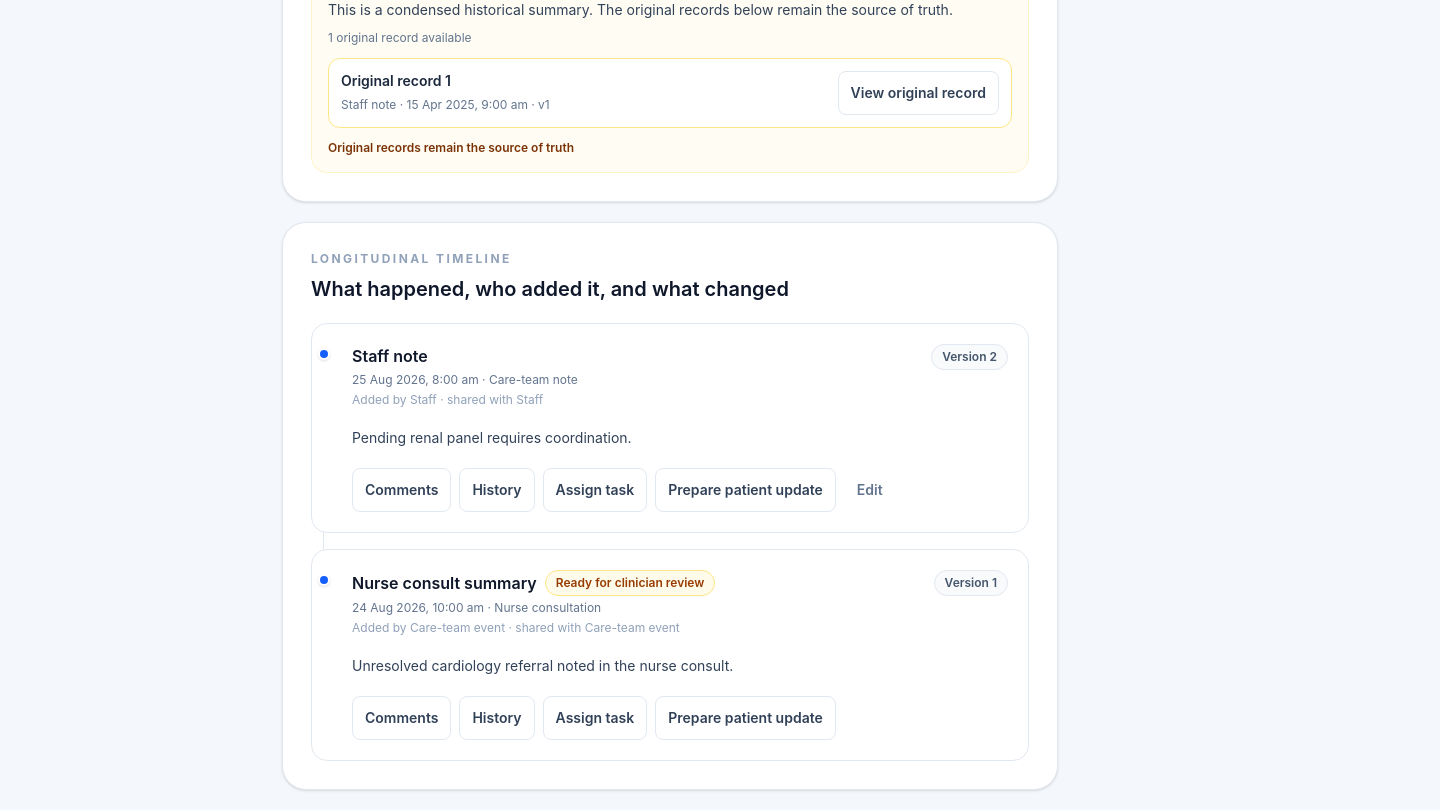
Gate B shared care note › supports keyboard mention autocomplete with stable collaborator choices
(page scrolled)
Click the button "Comments" below "Added by Staff · shared with Staff" at (402,490), box 352,468 -> 451,512
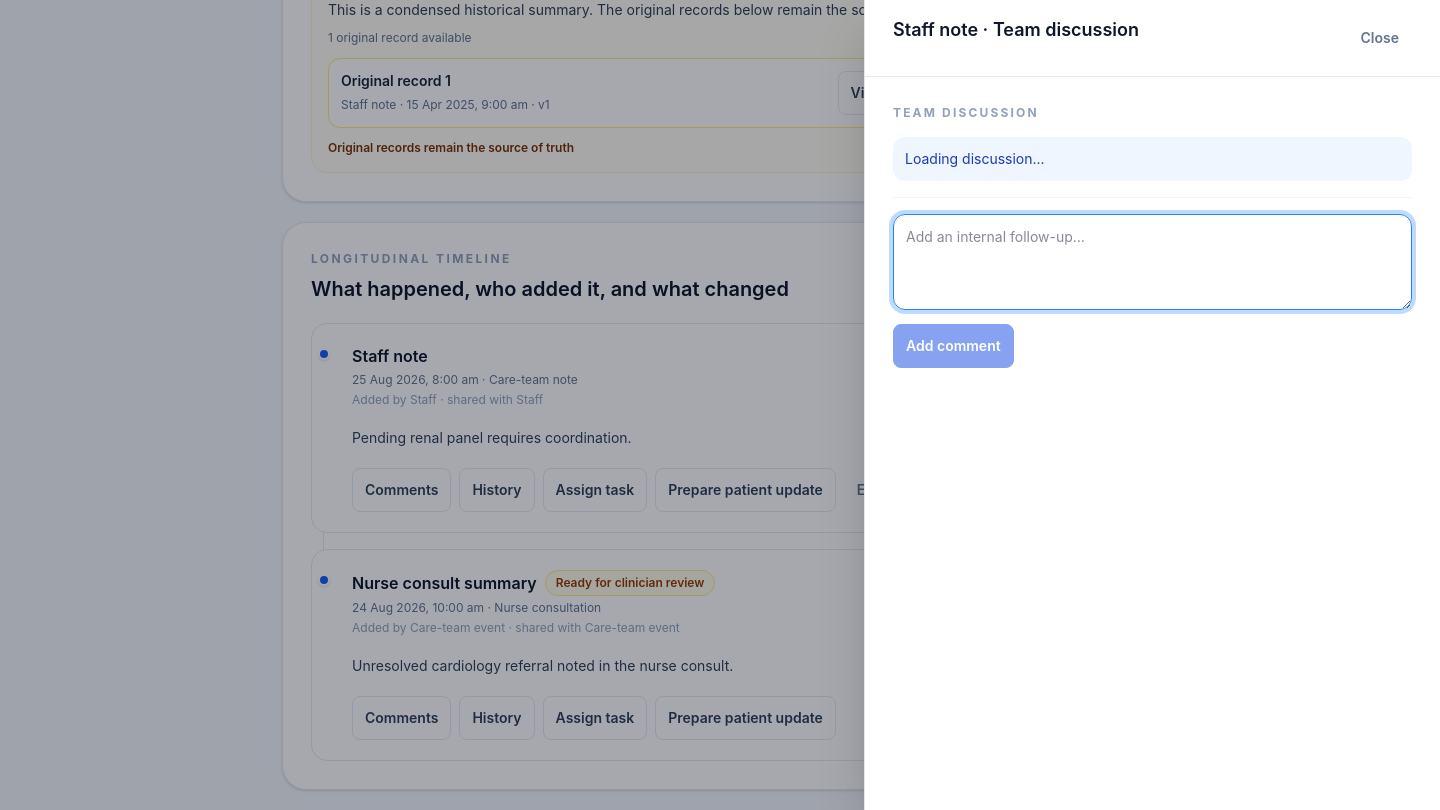
Type "@Clinician" into the text box named "Comment body" at (1152,262), box 893,214 -> 1412,310
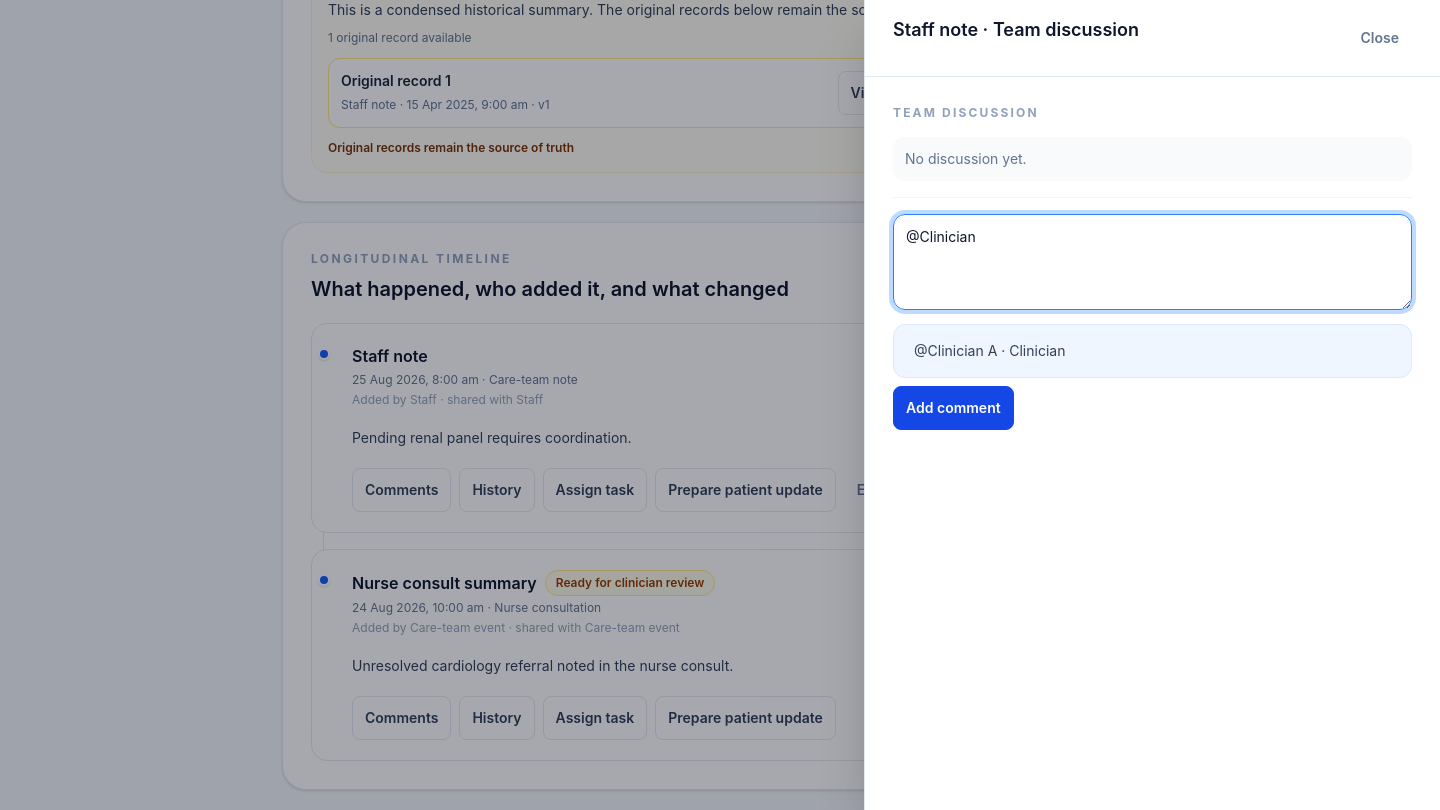
expect the option shows "@Clinician A": met, box 902,333 -> 1403,369
Press Enter in the text box named "Comment body", box 893,214 -> 1412,310
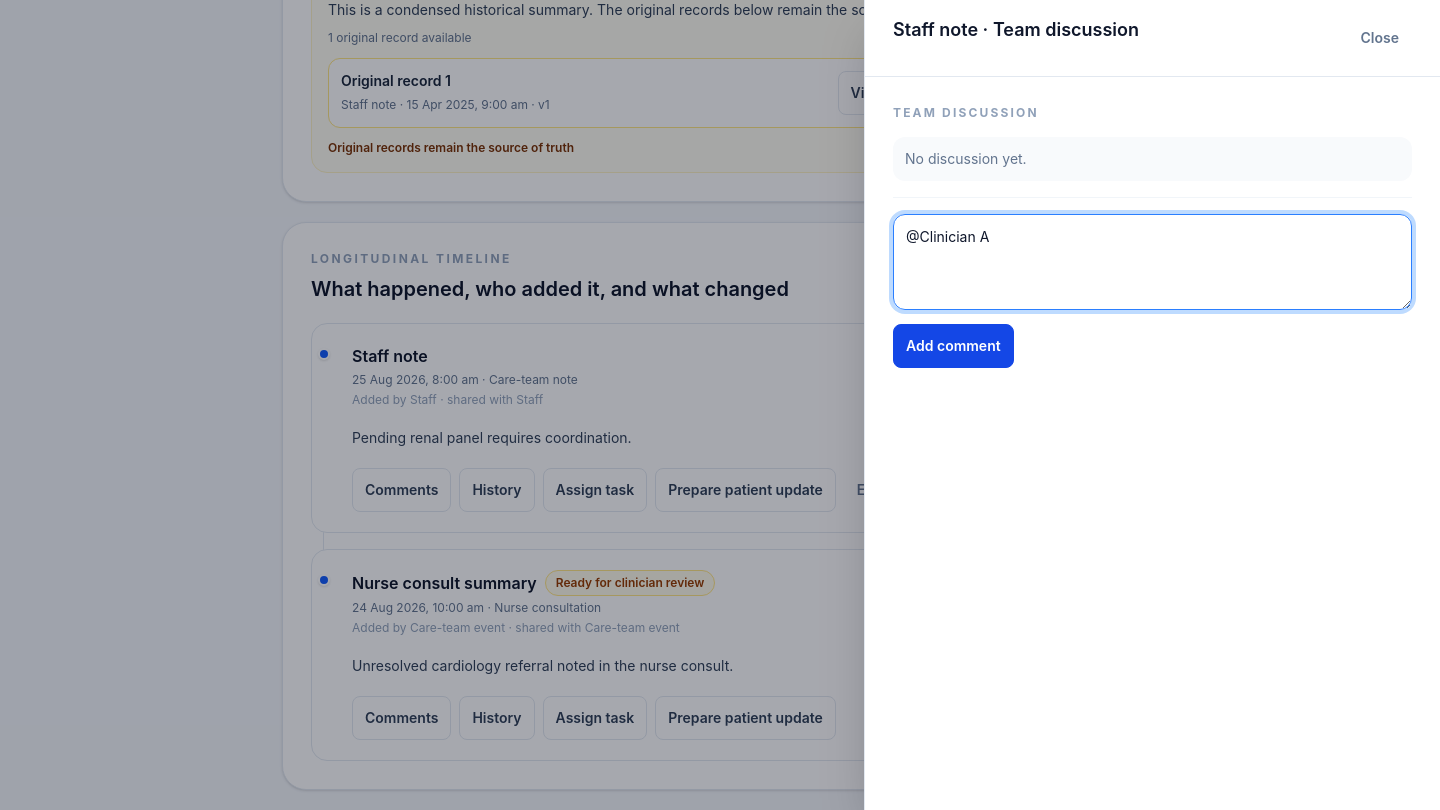
expect the text box named "Comment body" holds "@Clinician A ": met, box 893,214 -> 1412,310
